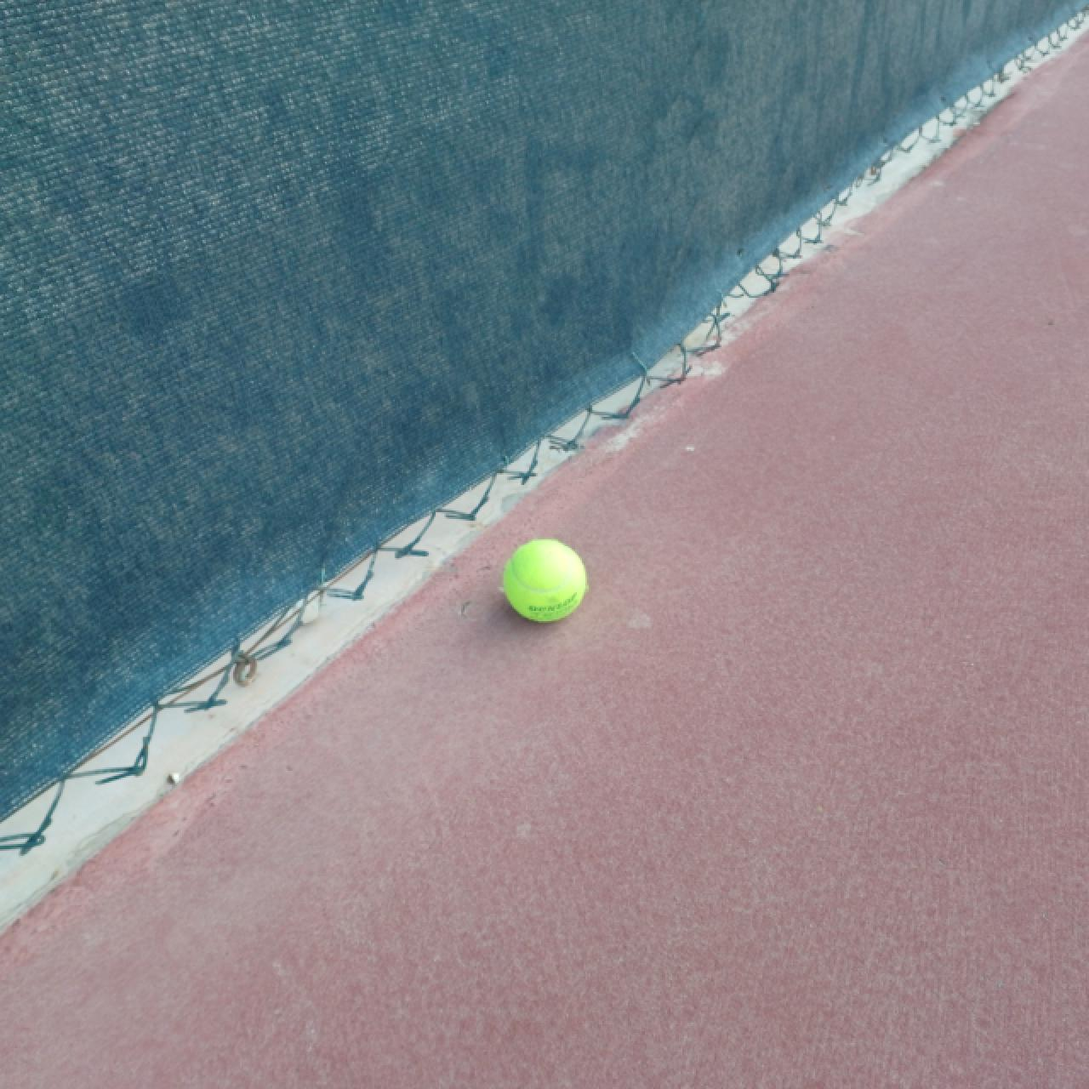tennis-ball: (501, 538, 587, 623)
